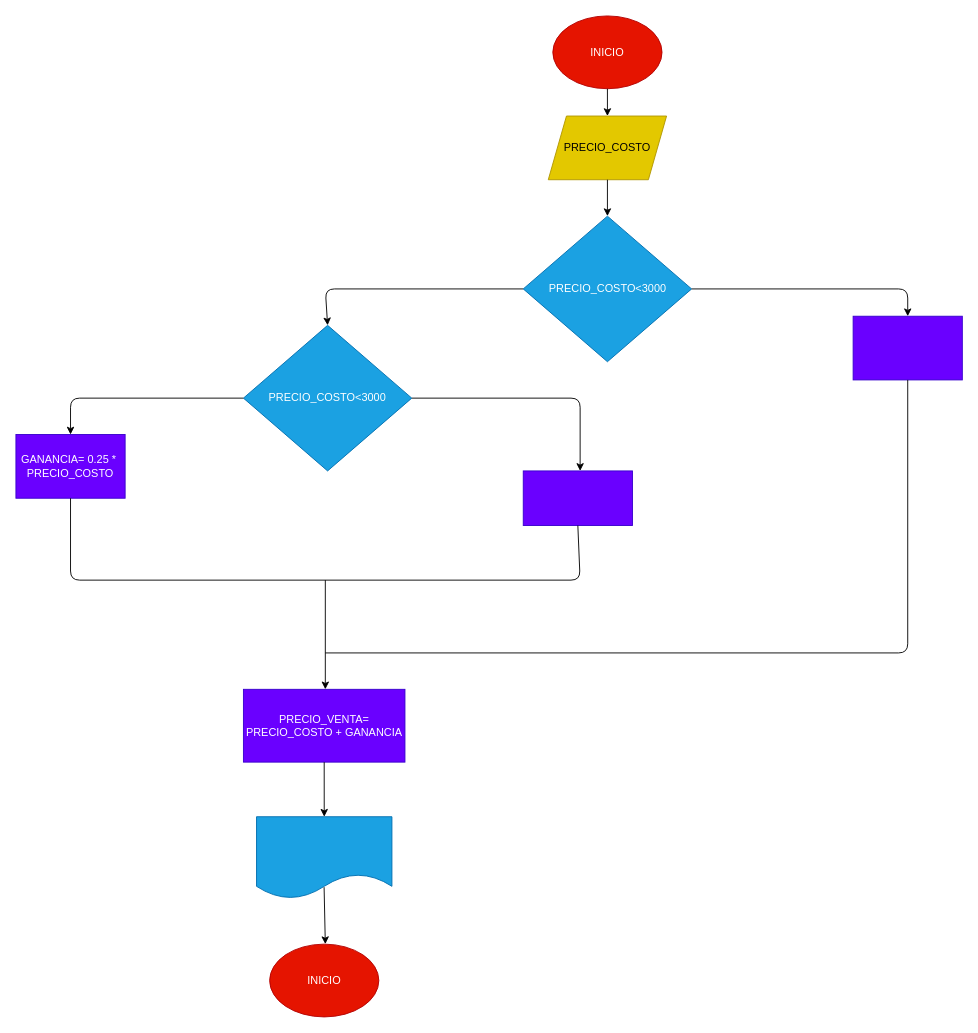
Image size: 978x1033. Some labels were removed from this diagram. The centre of each missing label's shape, as x and y in pixels:
GANANCIA= 0.15 * PRECIO_COSTO: pixel 907 347
GANANCIA= 500: pixel 577 498
PRECIO_VENTA: pixel 324 857
